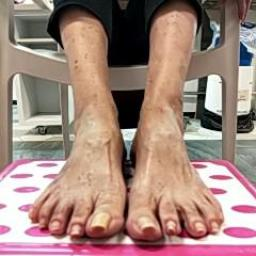Front View -Both Feet-: (14, 98, 247, 249)
